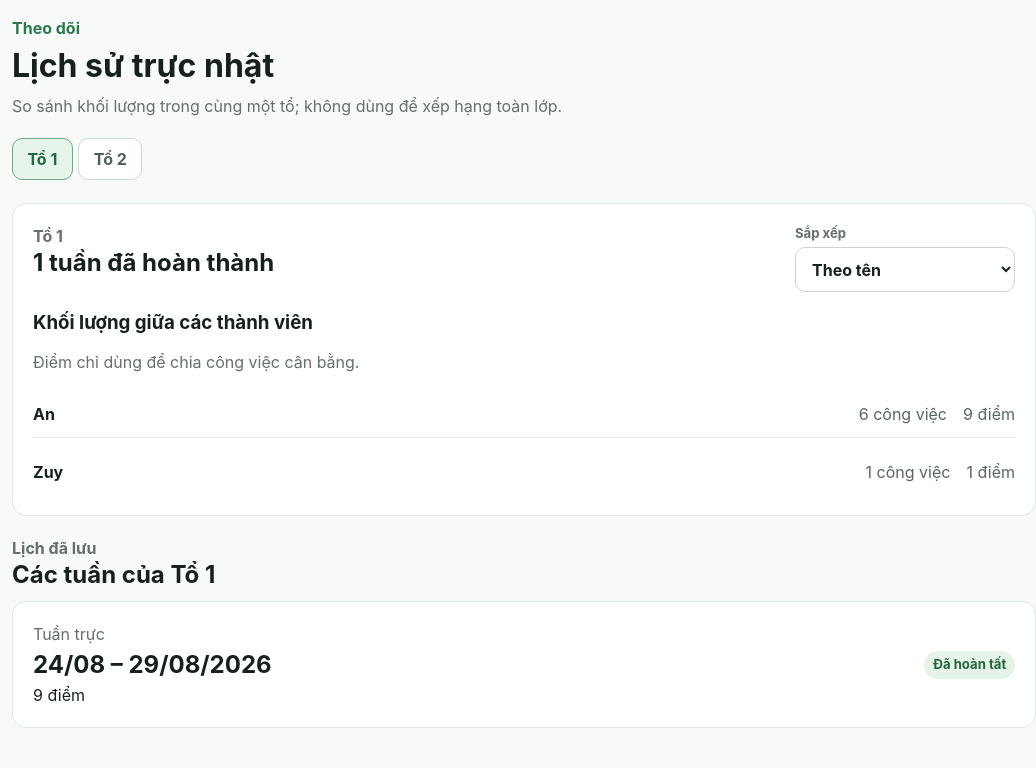
Test: HistoryPage › scopes history by group and sorts members by name by default
The image size is (1036, 768).
Expected: the heading "1 tuần đã hoàn thành" is shown, top-left (33, 248), bottom-right (274, 278)
Expected: the rows read "An6 công việc9 điểm", "Zuy1 công việc1 điểm", in this order, top-left (33, 390), bottom-right (1015, 438); top-left (33, 462), bottom-right (1015, 482)
Select "Khối lượng thấp trước" in the dropdown labelled "Sắp xếp": (905, 270) top-left (795, 248), bottom-right (1015, 292)
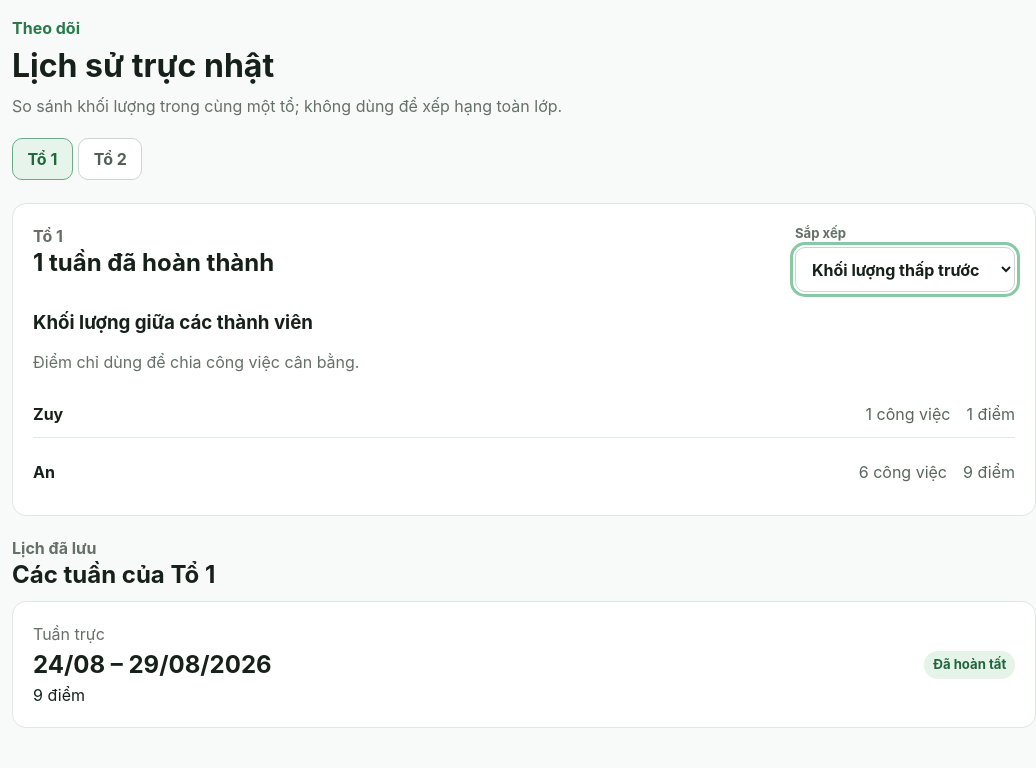
Now the rows read "Zuy1 công việc1 điểm", "An6 công việc9 điểm", in this order, box top-left (33, 390), bottom-right (1015, 438); top-left (33, 462), bottom-right (1015, 482)
Click the tab "Tổ 2": (110, 159) top-left (78, 138), bottom-right (142, 180)
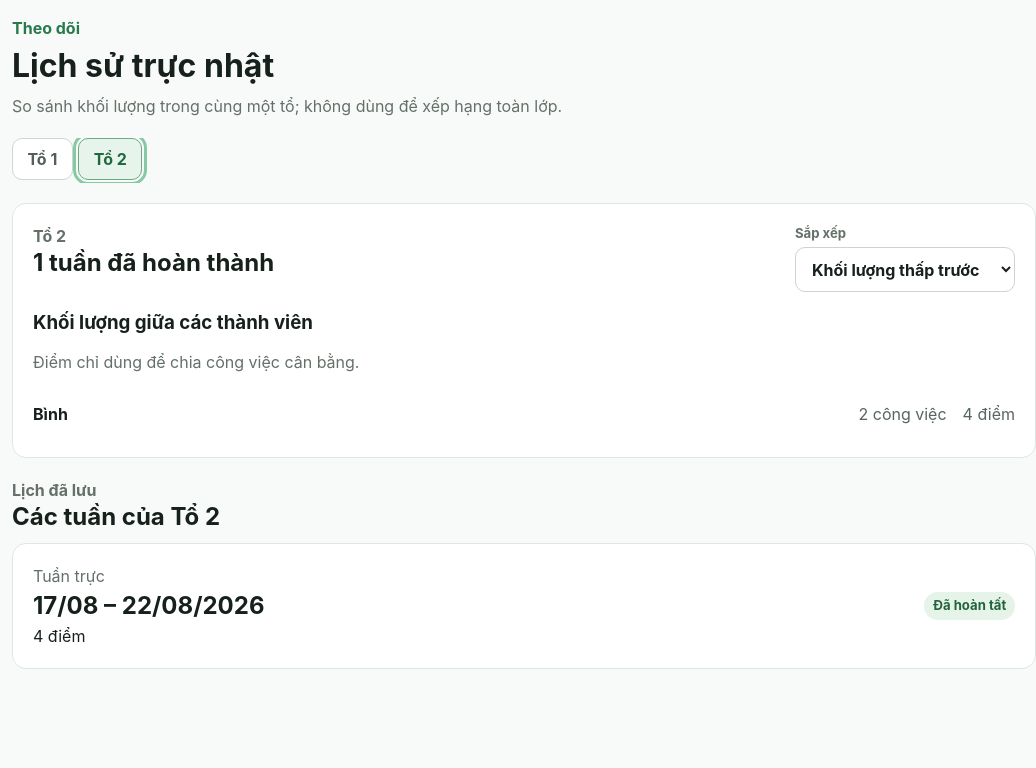
Now the table named "Khối lượng Tổ 2" shows "Bình", box top-left (33, 404), bottom-right (68, 424)
Now the text "An" is gone
Now the heading "Các tuần của Tổ 2" is shown, box top-left (12, 502), bottom-right (220, 532)
